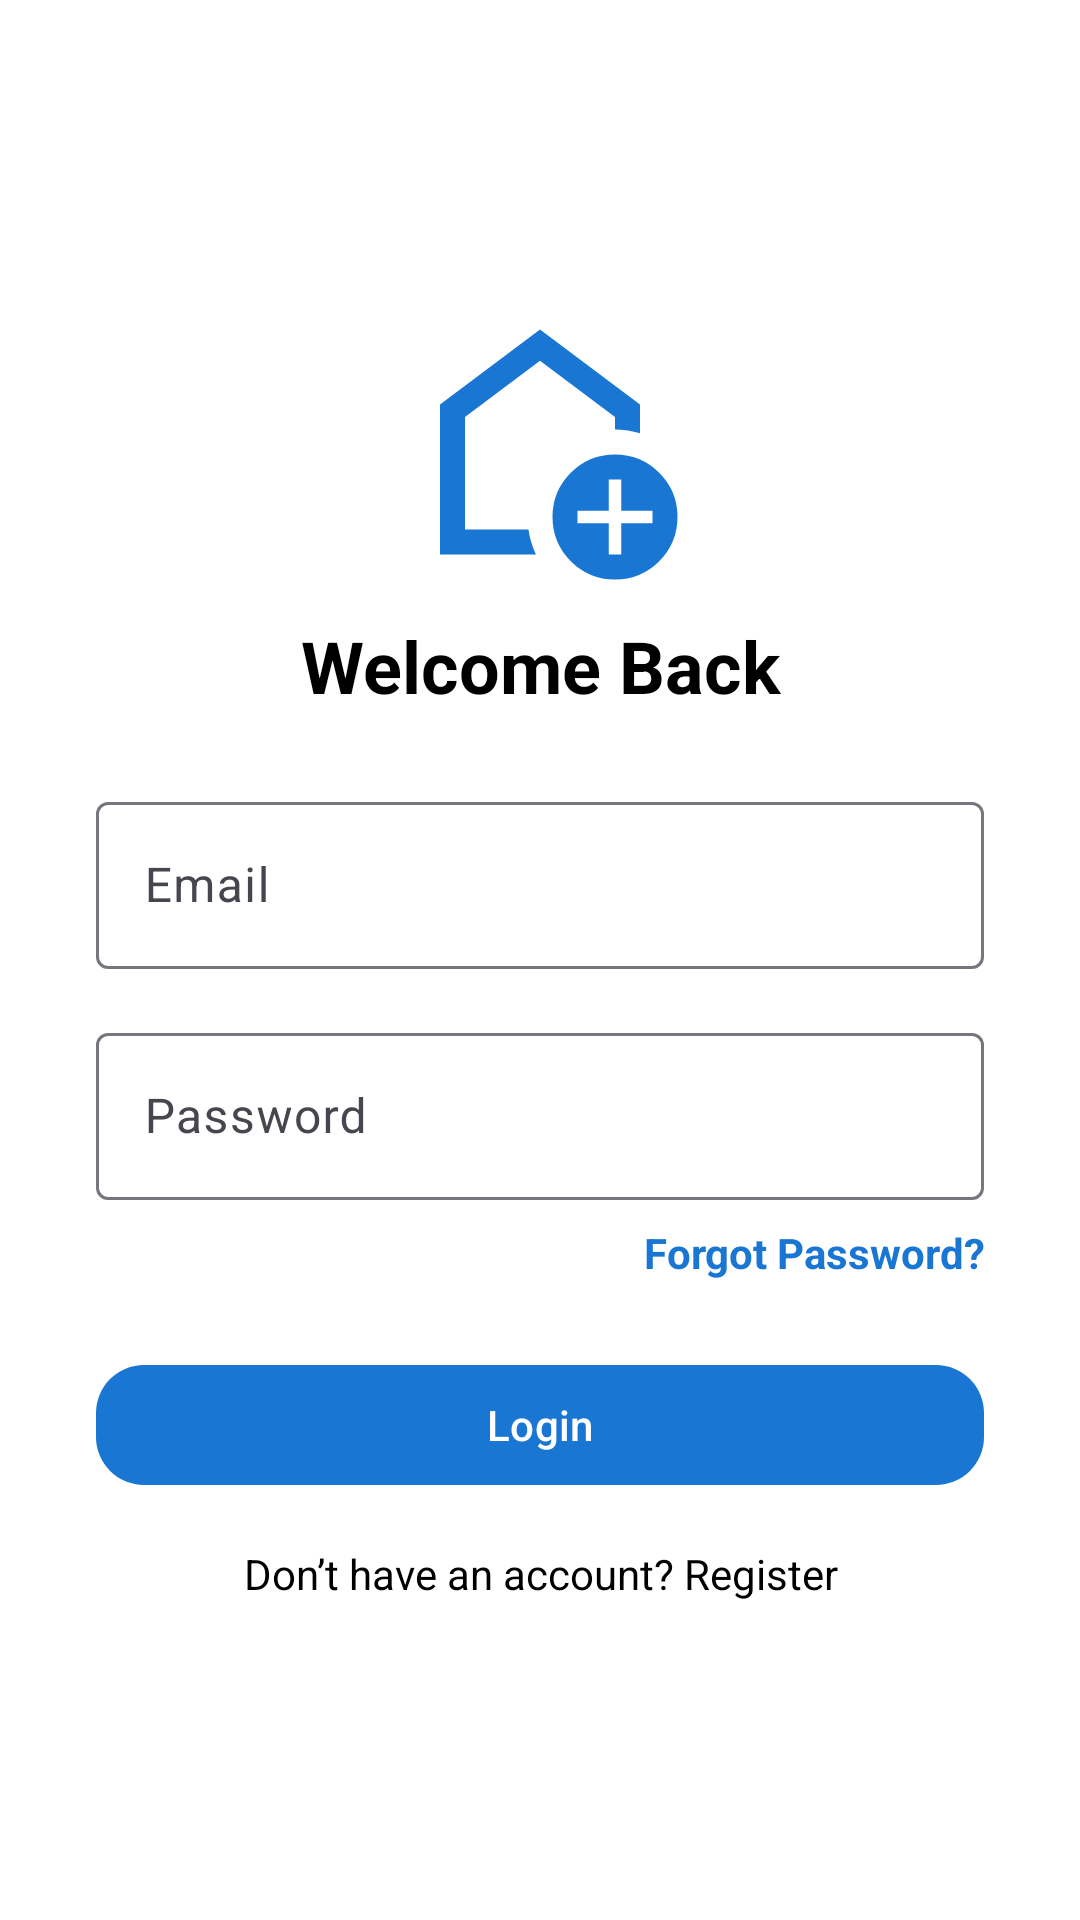

Named icons in this screenshot (1080w x 1920h) and their bounding boxes, (x1, y1, x2, y2):
home: (440, 329, 678, 580)
